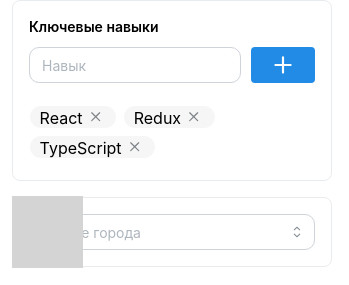
Sidebar › allows removing a skill via close button only
This screenshot has width=349, height=285.
Click the button named "Remove Redux" at x=194, y=117, box x1=183 y1=106 x2=205 y2=128
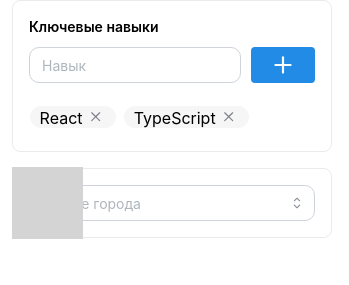
Expected: the text "Redux" is gone
